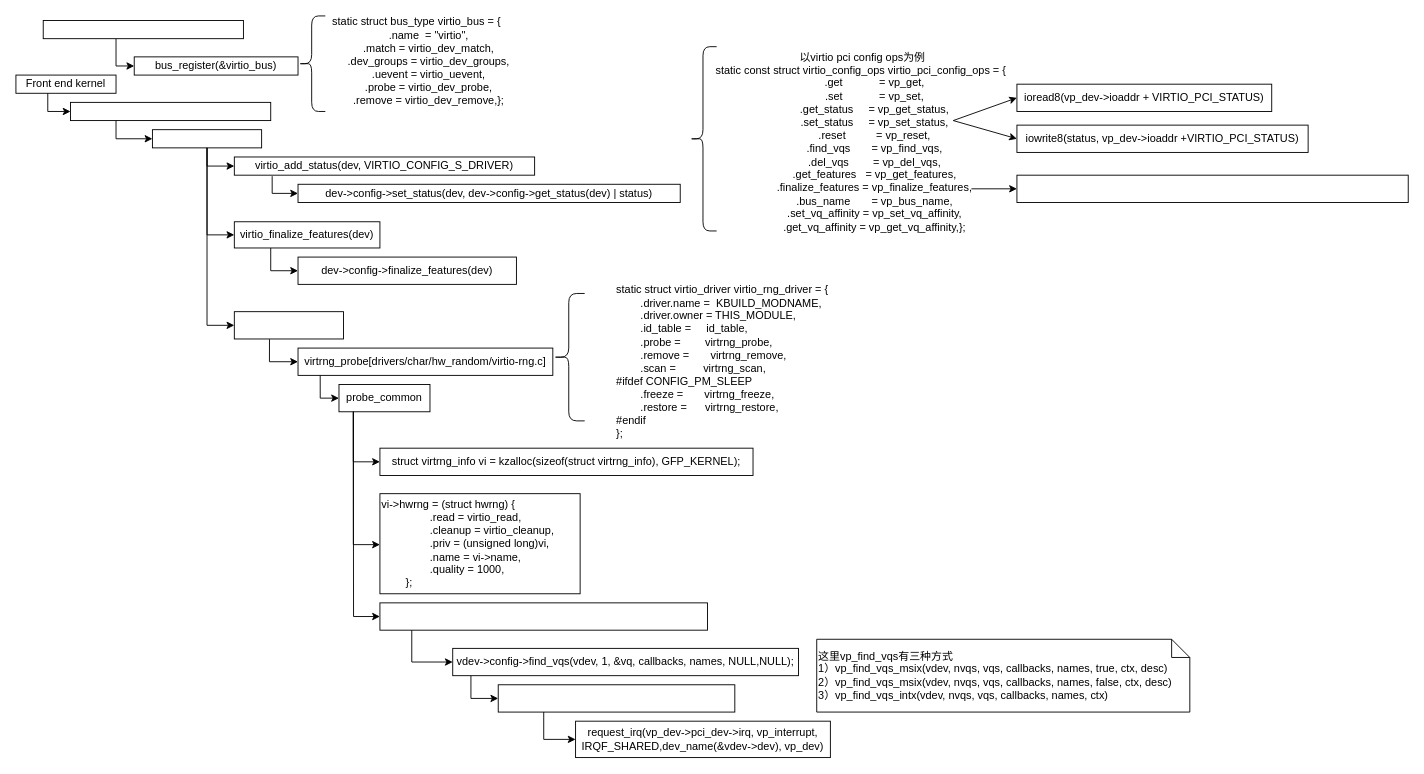
Image size: 1424x774. Some labels were removed from this diagram. Here are the shapes that lost their labels. From the top down, the centre of each, then its label:
(x=142, y=29): virtio_init(void) [drivers/virtio/virtio.c]
(x=170, y=111): virtio_dev_match[drivers/virtio/virtio.c]
(x=207, y=138): virtio_dev_probe
(x=1212, y=188): iowrite32(vdev->features, vp_dev->ioaddr + VIRTIO_PCI_GUEST_FEATURES)
(x=288, y=325): drv->probe(dev)
(x=543, y=616): vi->vq = virtio_find_single_vq(vdev, random_recv_done, "input")
(x=616, y=698): vp_find_vqs[drivers/virtio/virtio_pci_common.c]
